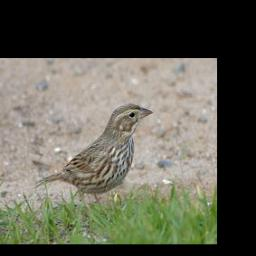Sparrow: (33, 99, 155, 228)
